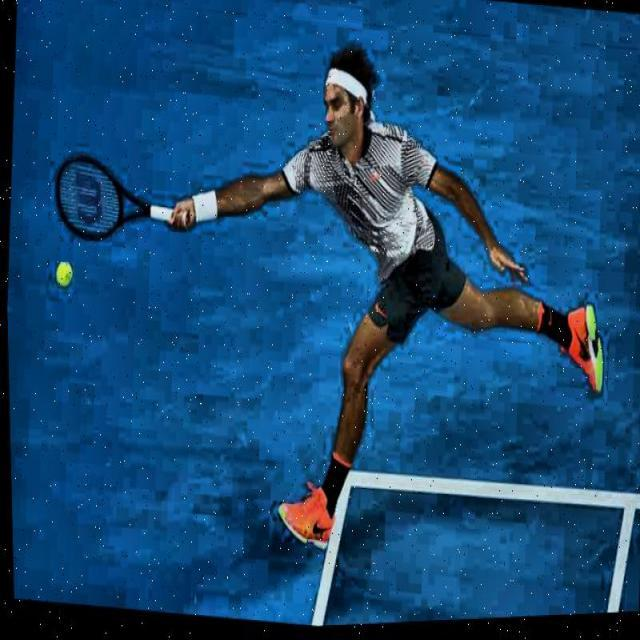tennis-ball: (51, 261, 75, 297)
